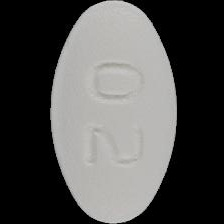50090-1064: (0, 0, 224, 224)
